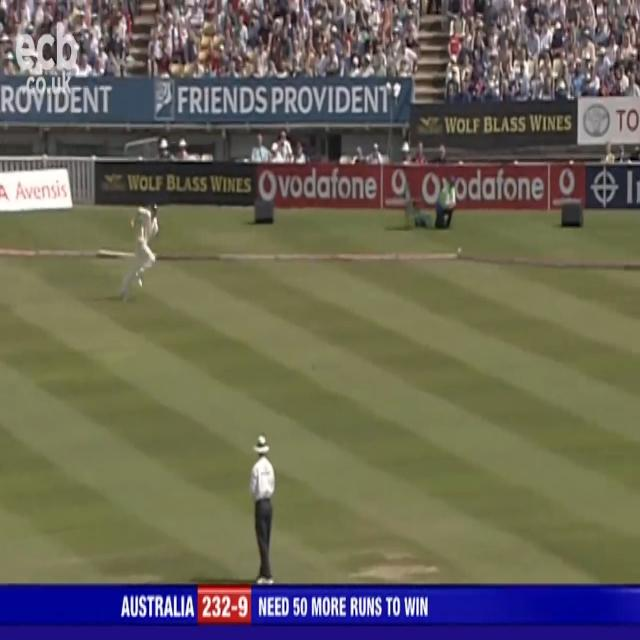ball: (310, 359, 318, 374)
